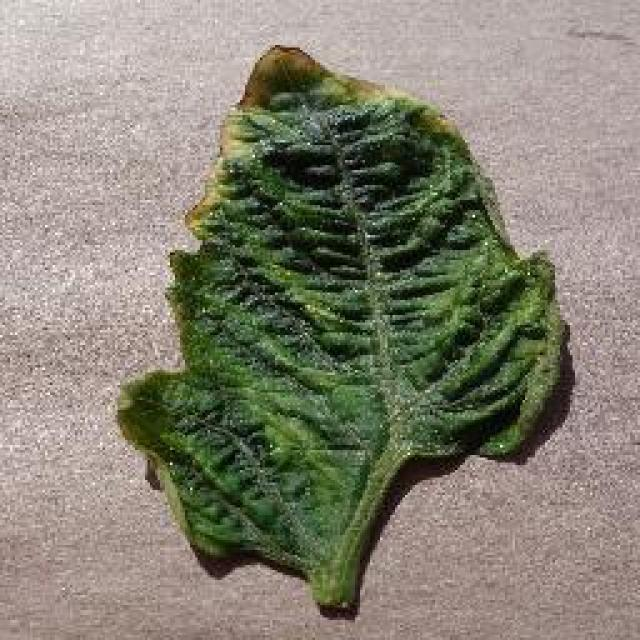Tomato yellow virus leaf: (110, 38, 566, 575)
